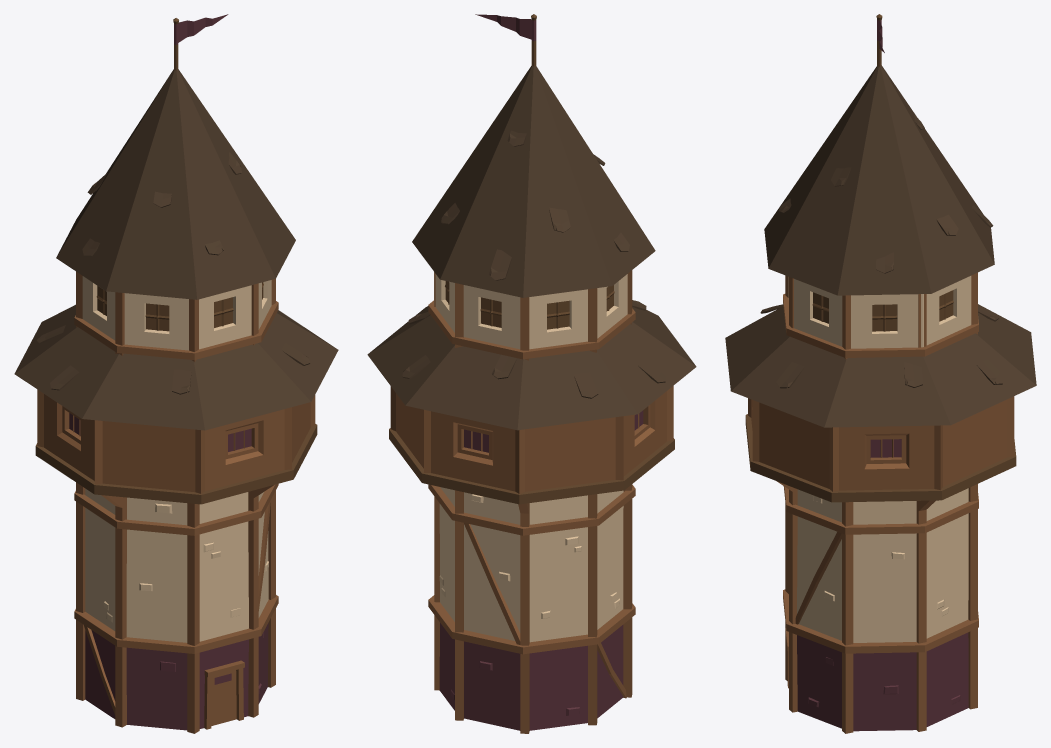
Rendered from medieval-tower-medieval-big.glb.
3 views of the same model, side by side, from view 1: azimuth 30°, elevation 25°; view 2: azimuth 150°, elevation 25°; view 3: azimuth 270°, elevation 25° (orthographic).
Visible parts, largest first — view 1: tower-medieval-big; view 2: tower-medieval-big; view 3: tower-medieval-big.
Boxes of the visible parts, x1=… form: tower-medieval-big: x1=14, y1=14, x2=338, y2=733; tower-medieval-big: x1=367, y1=14, x2=696, y2=733; tower-medieval-big: x1=725, y1=14, x2=1036, y2=733.
Size of the model in its own units: 9.24 by 22.29 by 9.24.
